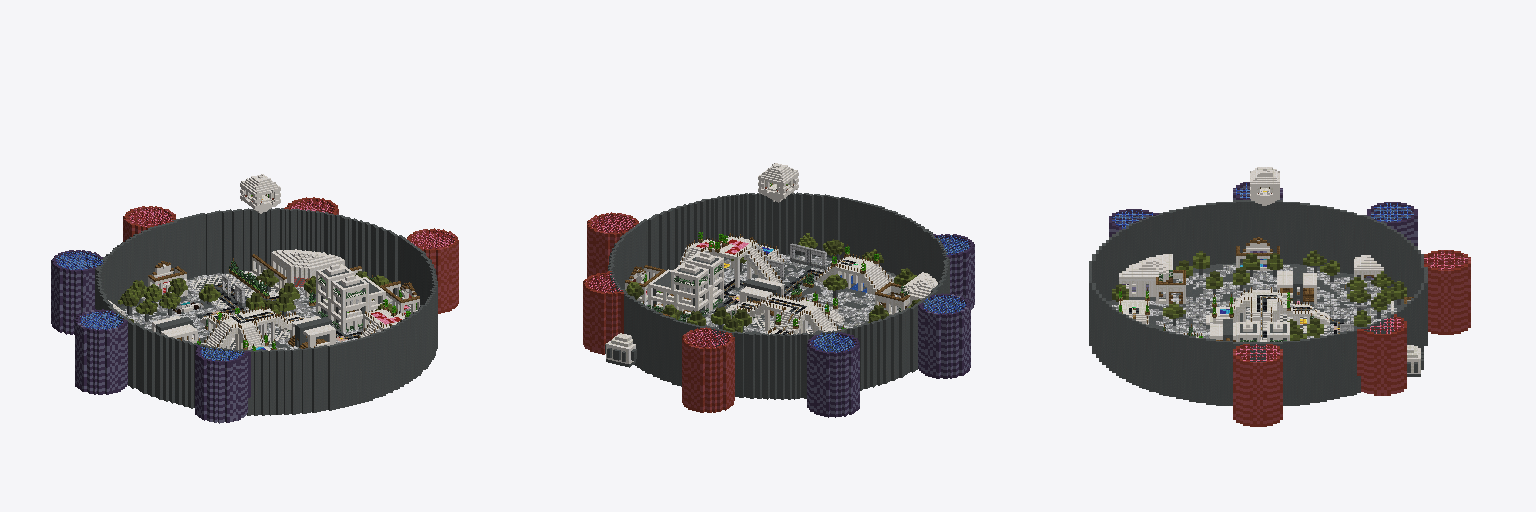
3 views of the same model, side by side, from view 1: azimuth 30°, elevation 25°; view 2: azimuth 150°, elevation 25°; view 3: azimuth 270°, elevation 25° (orthographic).
Bounding box in the file's own units: 1290 × 565 × 1140.
73 materials, 71 textured.